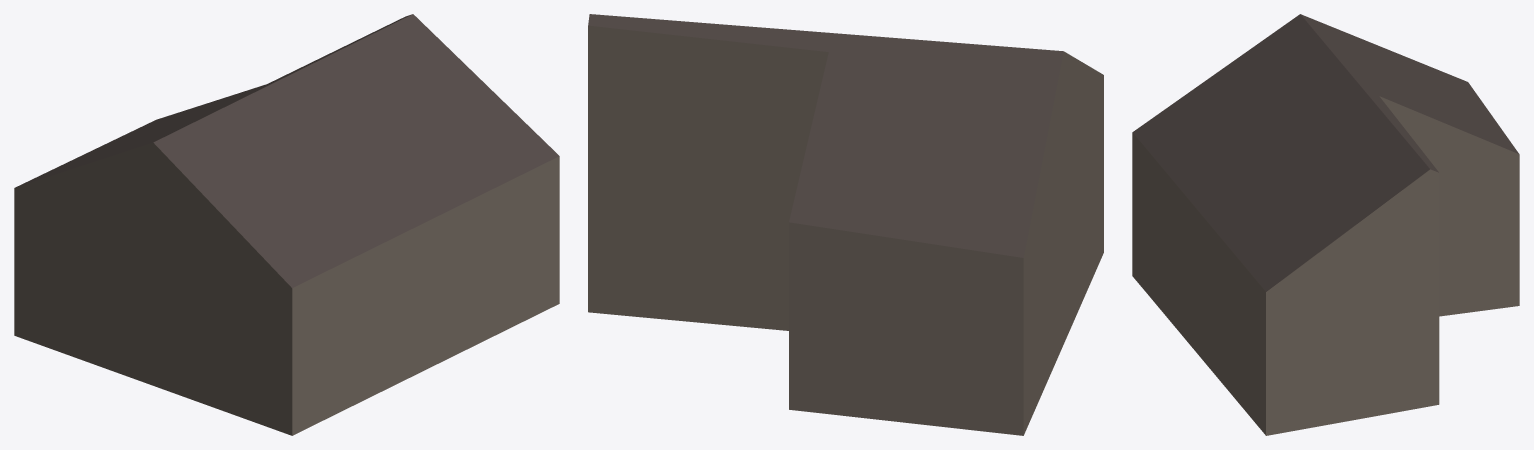
3 views of the same model, side by side, from view 1: azimuth 30°, elevation 25°; view 2: azimuth 150°, elevation 25°; view 3: azimuth 270°, elevation 25° (orthographic). The views are drawn at different scales.
Visible parts, largest first — view 1: HP-w1516733016; view 2: HP-w1516733016; view 3: HP-w1516733016.
Part boxes in pixels (x1,y1,x2,y2): HP-w1516733016: (14,14,559,435); HP-w1516733016: (588,14,1103,435); HP-w1516733016: (1132,14,1519,435).
Size of the model in its own units: 28.19 by 14.83 by 21.95.
